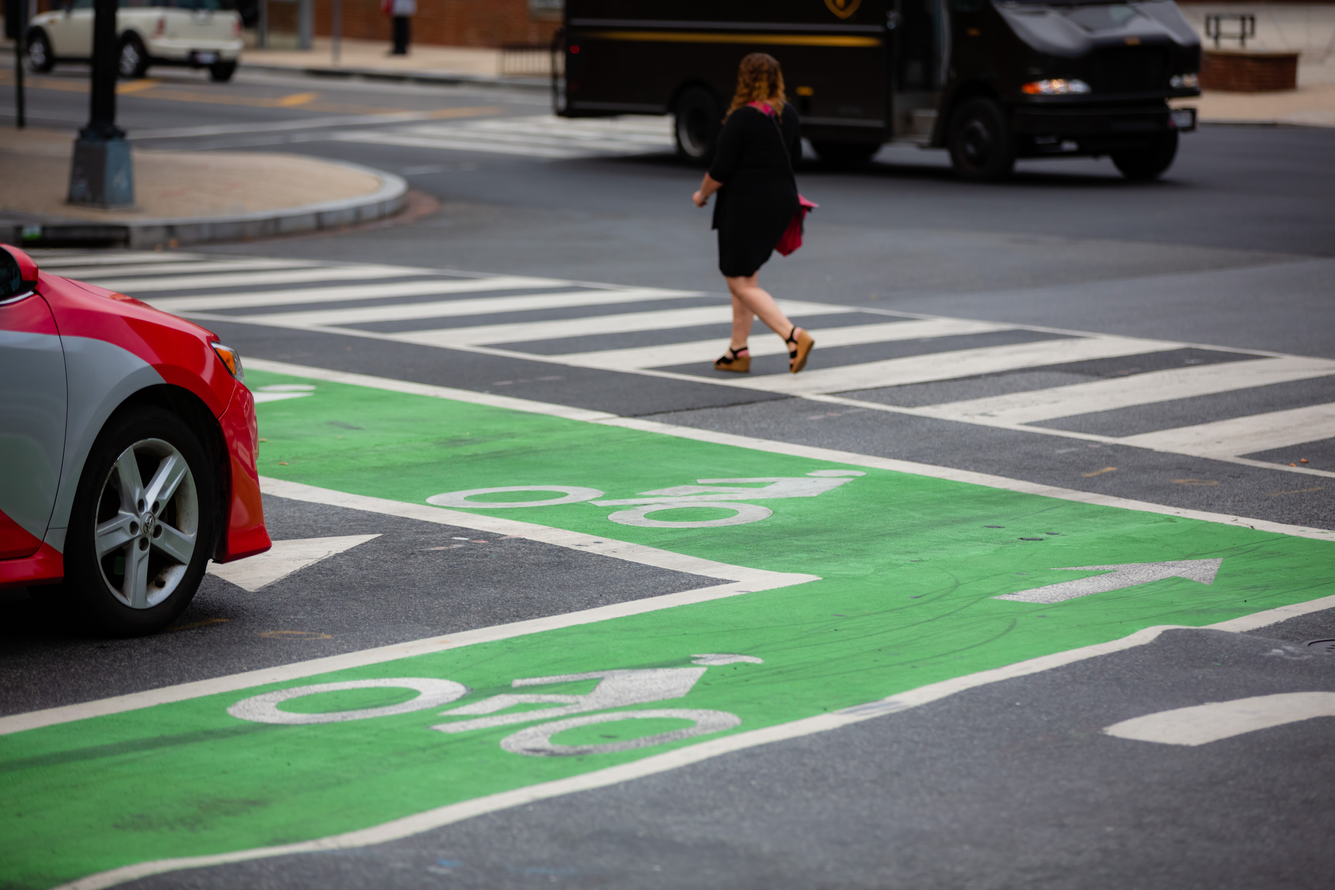Car: (11, 231, 299, 634), (786, 4, 1203, 199)
Crosswalk: (178, 239, 696, 388)
Person: (706, 48, 828, 413)
